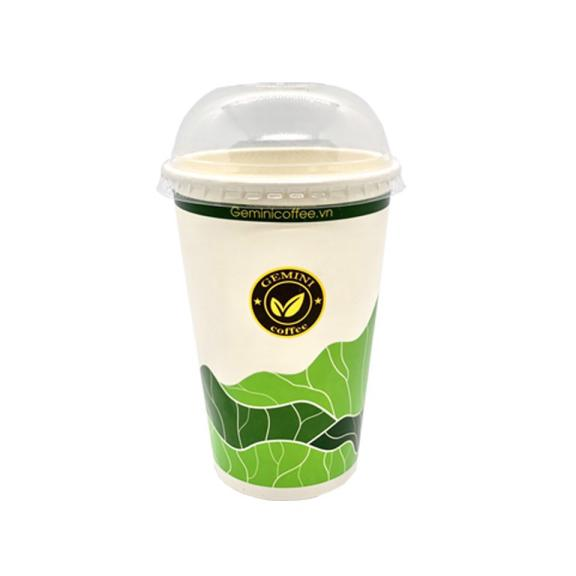Plastik: (159, 84, 402, 499)
